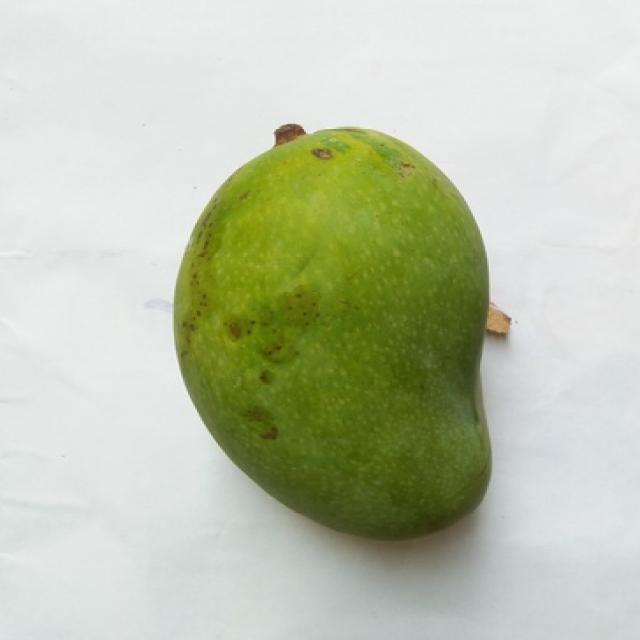Mango: (174, 128, 489, 538)
